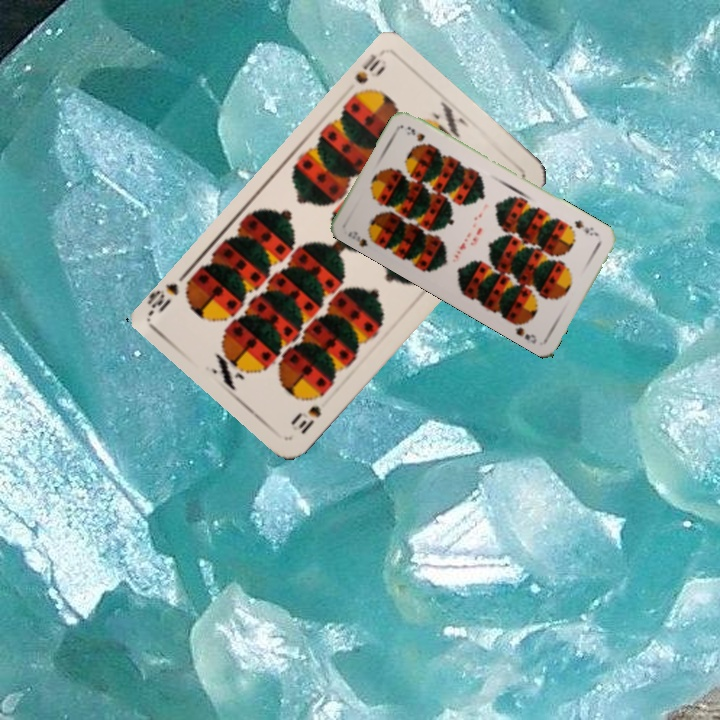S10: (346, 50, 388, 101), (288, 401, 324, 437)
S9: (344, 226, 381, 249), (570, 216, 601, 239)
